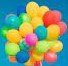Balloon: (26, 1, 39, 17), (6, 14, 19, 30), (6, 29, 20, 43), (47, 24, 59, 40), (35, 25, 47, 40), (43, 11, 55, 26), (20, 22, 32, 36), (6, 42, 18, 55), (16, 51, 29, 63), (44, 50, 57, 62), (25, 33, 36, 46)
